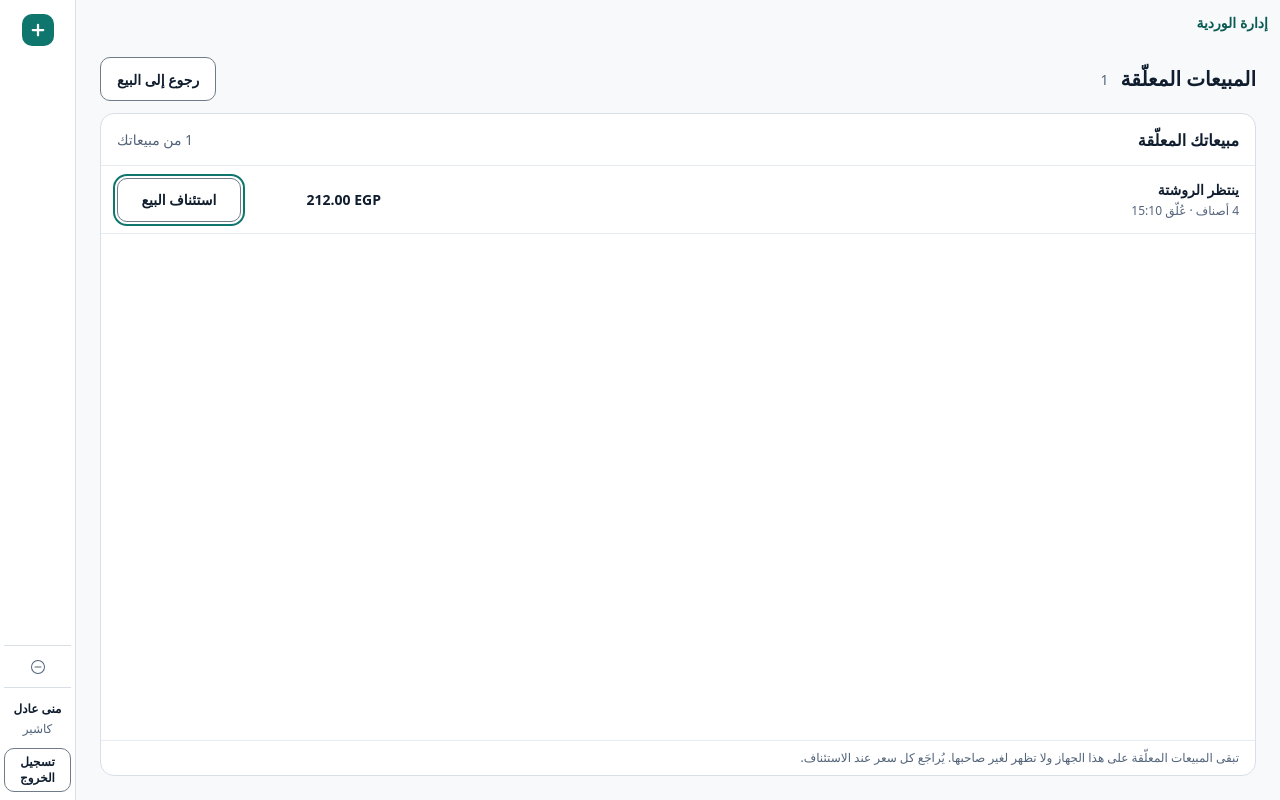
Test: ParkProof › ConflictClean reaches its review
Click the button "استئناف البيع": (179, 200) [117,178,241,222]
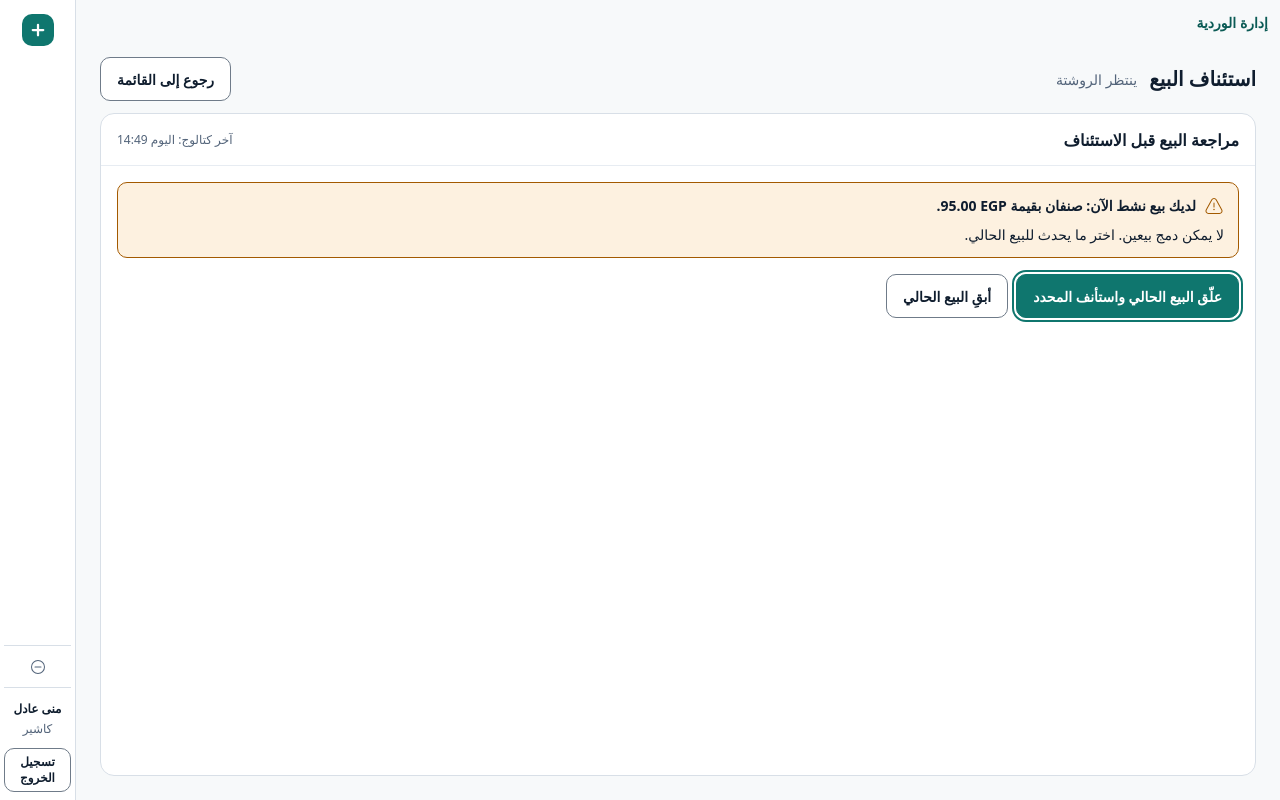
Check: the button "علّق البيع الحالي واستأنف المحدد" is shown, box [1016,274,1239,318]
